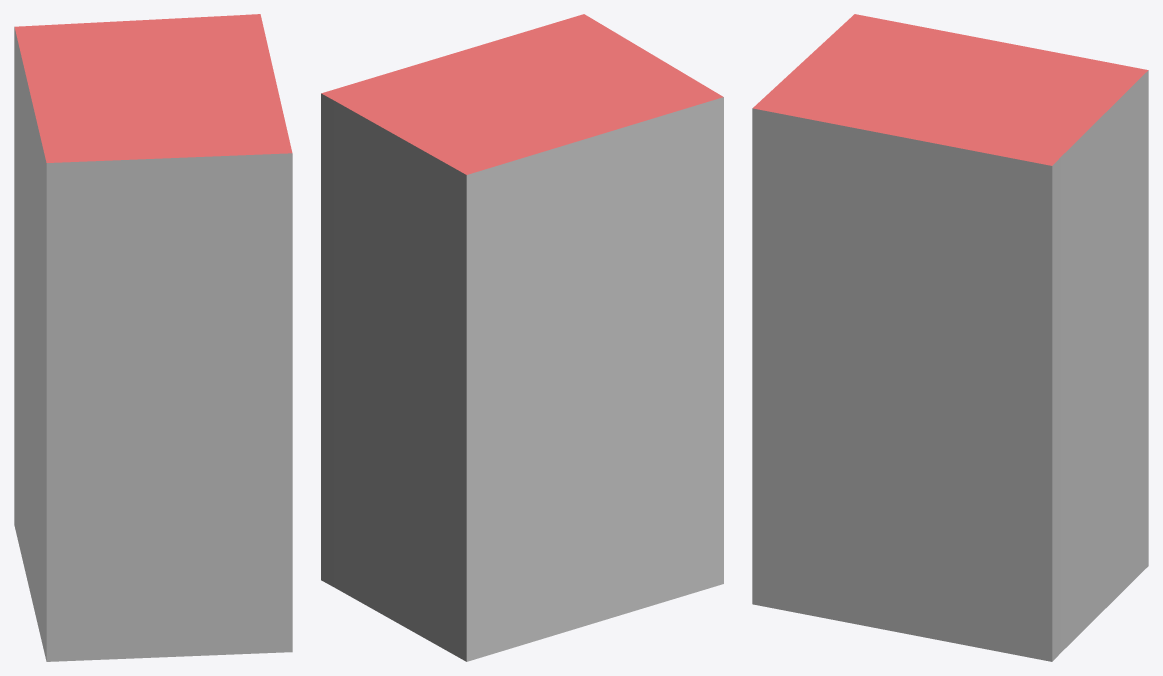
File: DEBY_LOD2_4908155.gltf
3 renders of one model, left to right at view 1: azimuth 30°, elevation 25°; view 2: azimuth 150°, elevation 25°; view 3: azimuth 270°, elevation 25°, orthographic. The views are drawn at different scales.
Visible parts, largest first — view 1: Z_UP; view 2: Z_UP; view 3: Z_UP.
Boxes of the visible parts, x1,y1,x2,y2 form: Z_UP: (14,14,292,661); Z_UP: (321,14,723,661); Z_UP: (752,14,1148,661).
Bounding box in the file's own units: 3.06 × 4.66 × 3.37.
